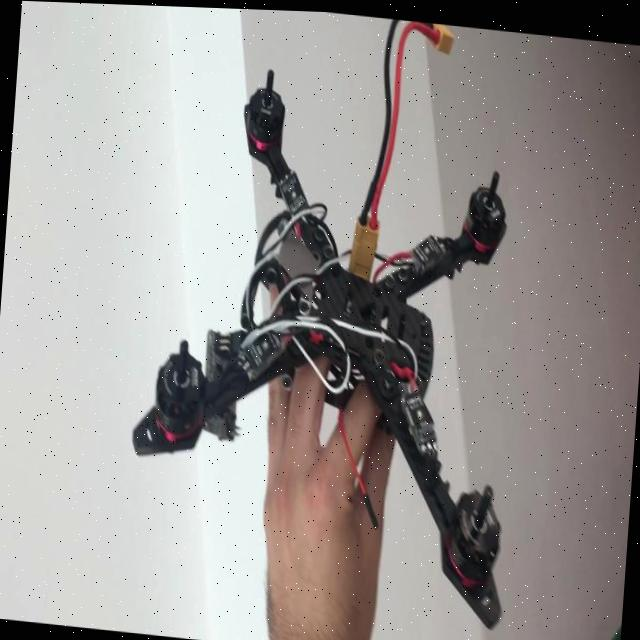drone: (110, 48, 552, 632)
